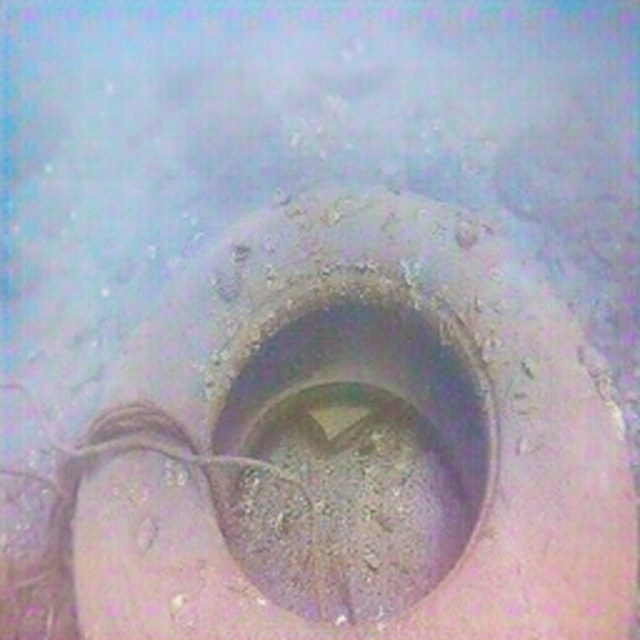mine: (72, 186, 639, 639)
